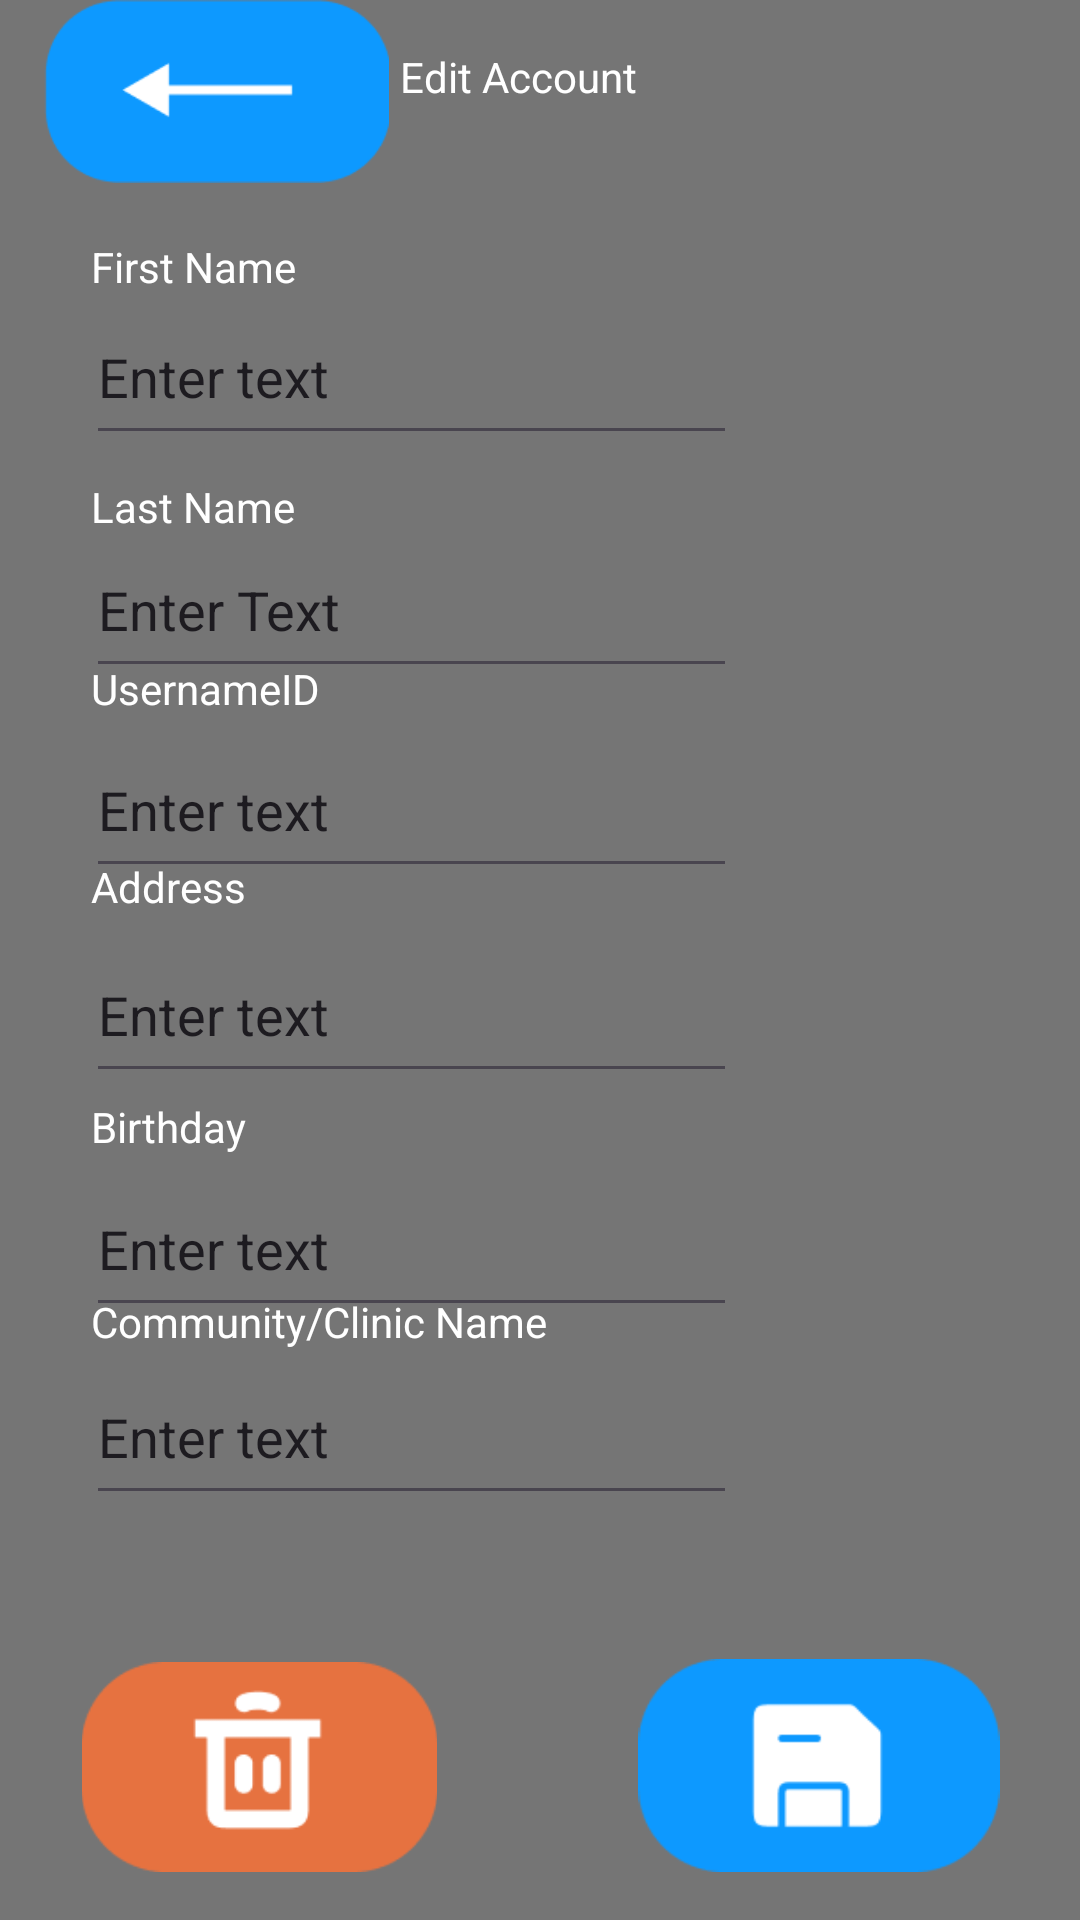

Screen size 1080w x 1920h. Icon name, then its center in pixels as (x,y):
Delete patient data: (259,1767)
